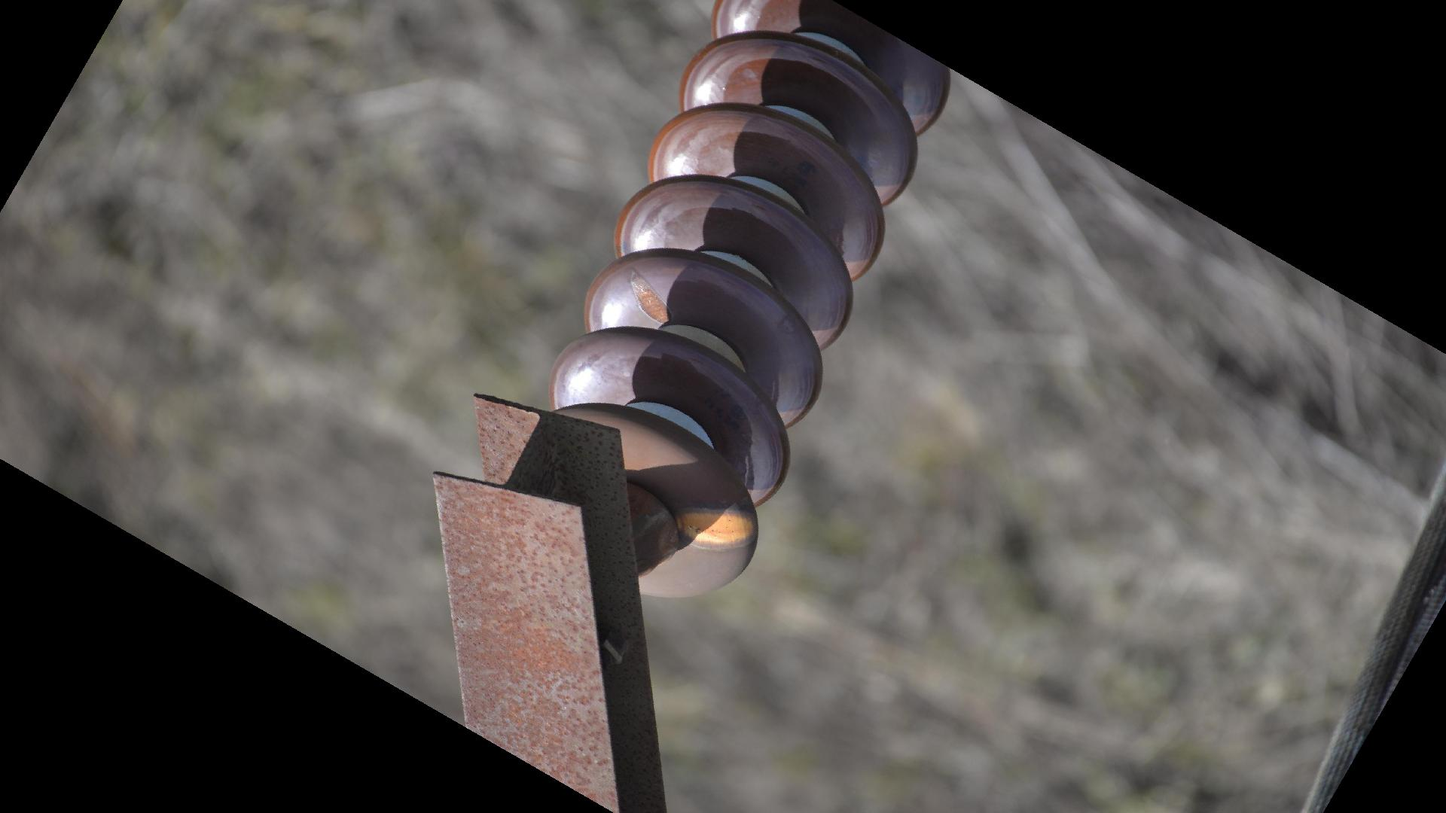insulator: (545, 1, 957, 606)
insulator_flashover: (672, 504, 760, 551), (627, 266, 674, 326)
